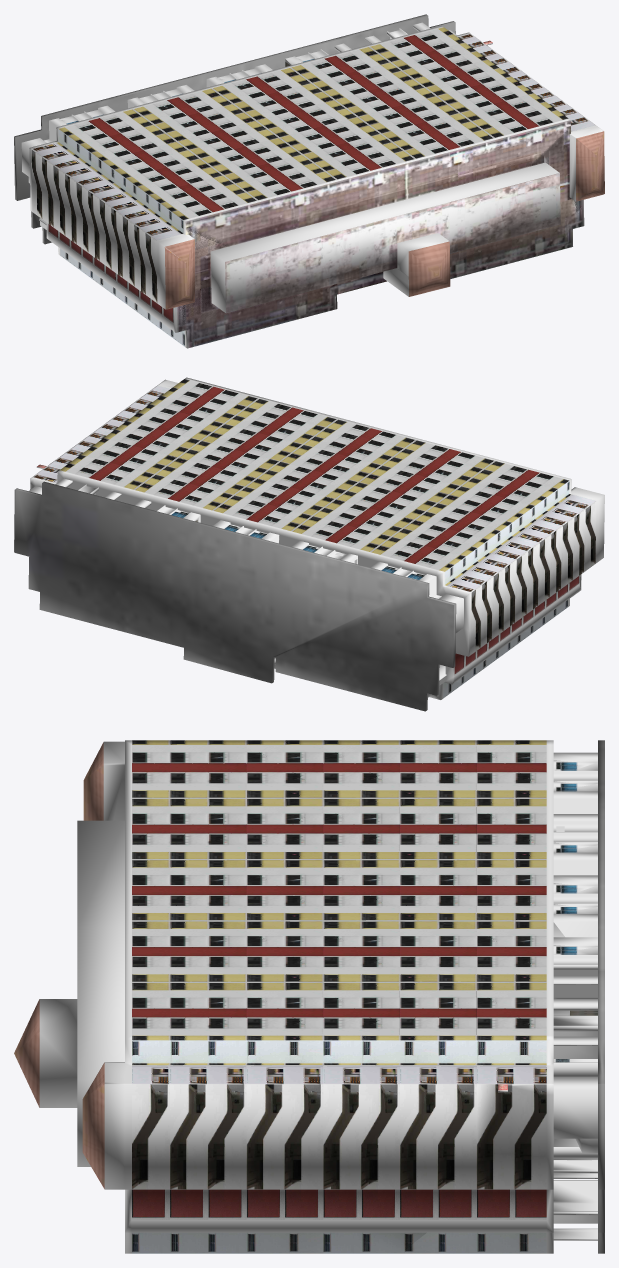
Rendered from amk_blk318_building.obj.
3 views of the same model, one above another, from view 1: azimuth 30°, elevation 25°; view 2: azimuth 150°, elevation 25°; view 3: azimuth 270°, elevation 25° (orthographic). The views are drawn at different scales.
Visible parts, largest first — view 1: polygon.787; view 2: polygon.787; view 3: polygon.787.
Boxes of the visible parts, <box> form: polygon.787: <box>14,14,604,348</box>; polygon.787: <box>14,377,604,711</box>; polygon.787: <box>14,740,604,1253</box>.
Size of the model in its own units: 61.28 by 18.91 by 42.23.
1 material, 1 textured.
